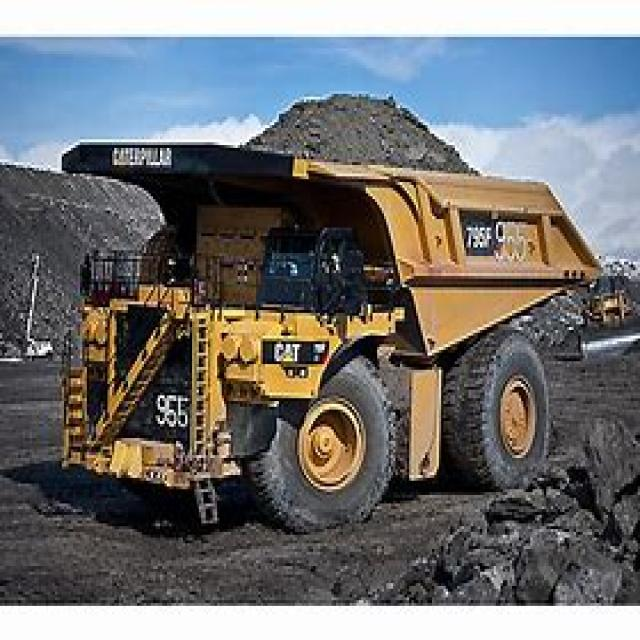dump_truck: (48, 114, 606, 529)
